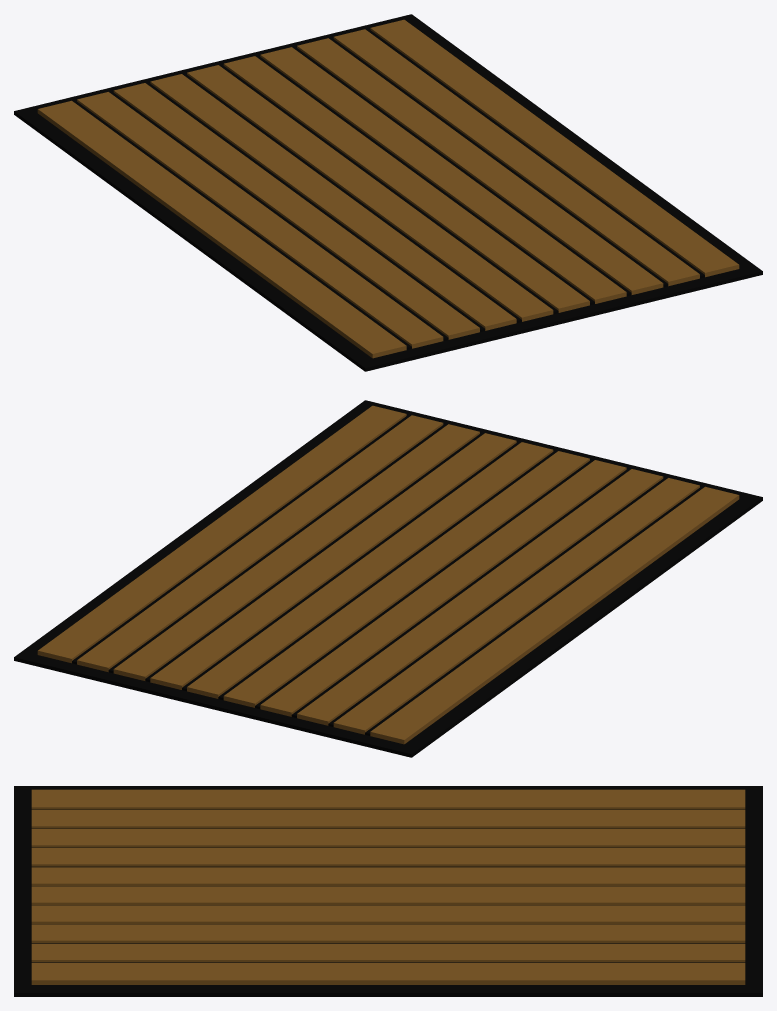
The model's file is wycieraczka_1.fbx.
3 renders of one model, top to bottom at view 1: azimuth 30°, elevation 25°; view 2: azimuth 150°, elevation 25°; view 3: azimuth 270°, elevation 25°, orthographic. The views are drawn at different scales.
Visible parts, largest first — view 1: Cube.001; view 2: Cube.001; view 3: Cube.001.
Part boxes in pixels (box(x1,y1,x2,y2)): Cube.001: box(14, 14, 762, 371); Cube.001: box(14, 400, 762, 757); Cube.001: box(14, 786, 762, 996).
Size of the model in its own units: 228 by 4.35 by 349.
